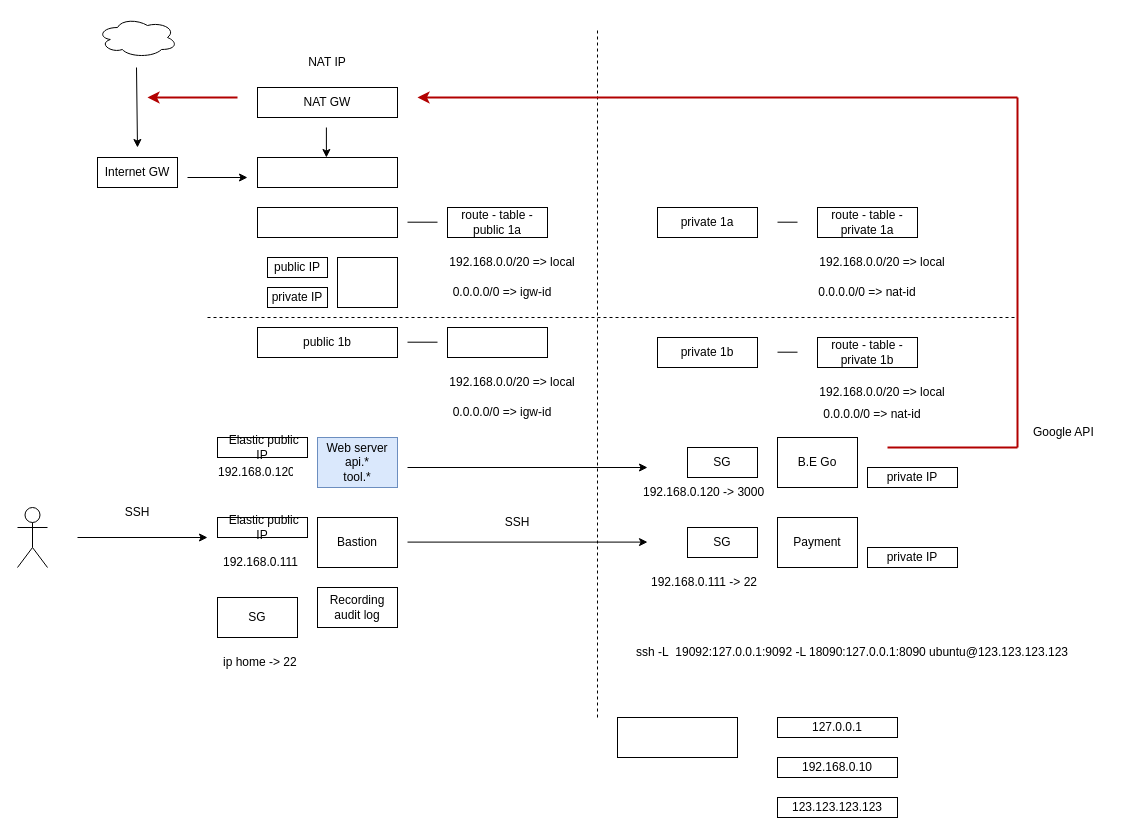
Image size: 1125x835. Some labels were removed from this diagram. Each missing label, with the centre of its shape:
"Actor" belongs at pixel 32 537.
"EC2" belongs at pixel 367 282.
"Internet" belongs at pixel 137 37.
"listen: 0.0.0.0:9092" belongs at pixel 677 737.
"public 1a" belongs at pixel 327 222.
"route - table - public 1b" belongs at pixel 497 342.
"VPC 192.168.0.0/20" belongs at pixel 327 172.
